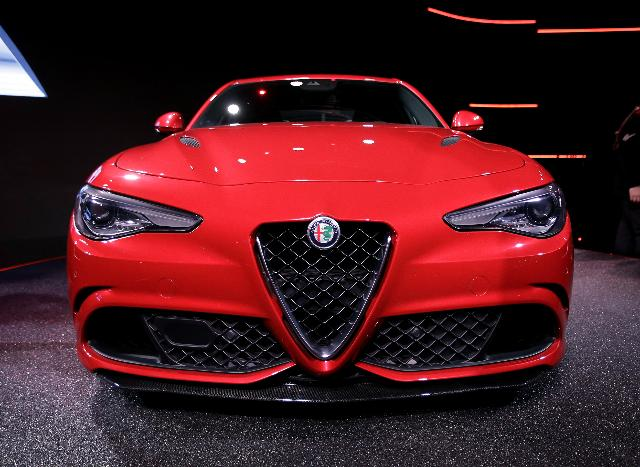alpha-romeo: (66, 75, 574, 405)
